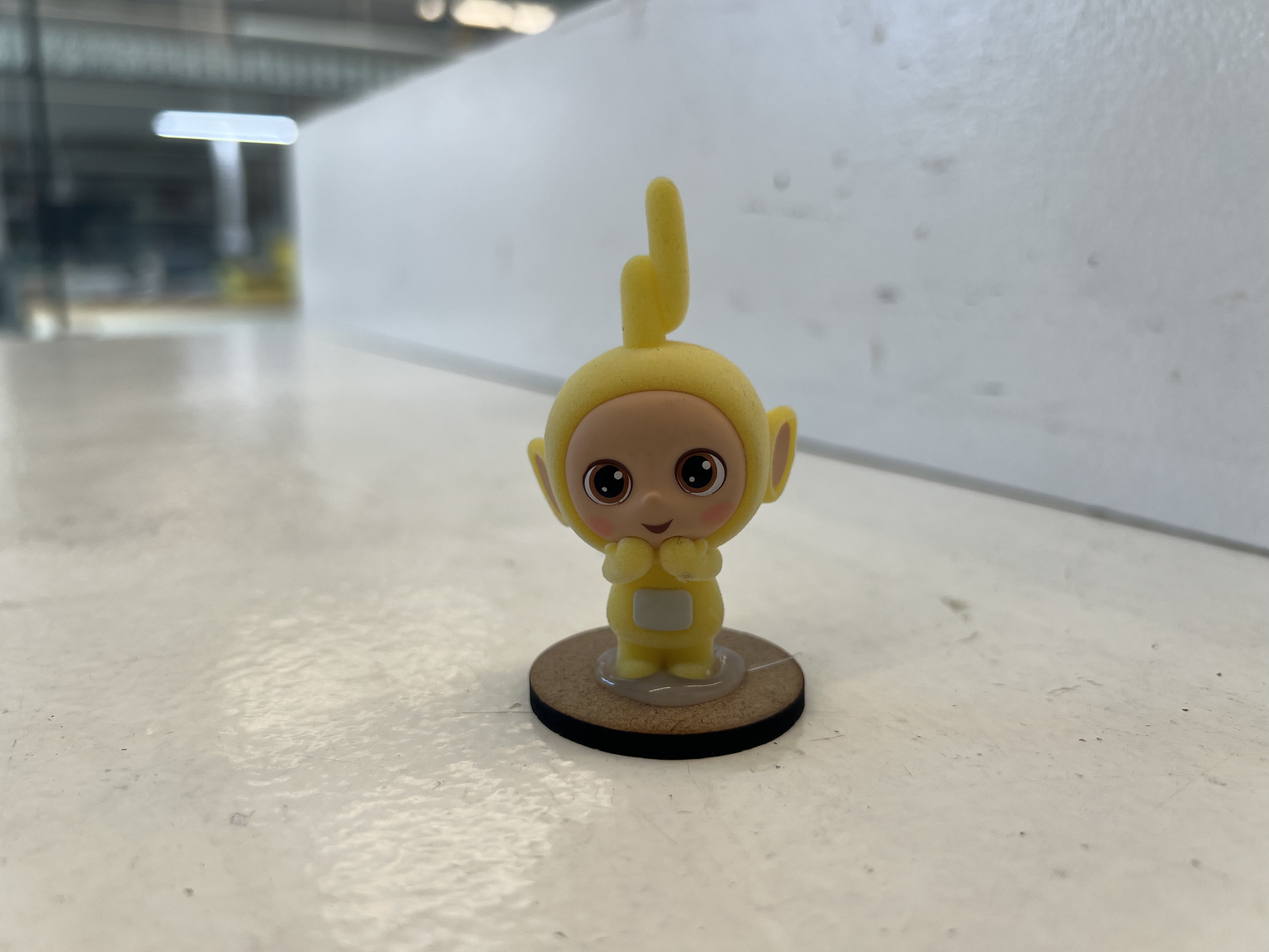teletubby: (529, 179, 796, 676)
